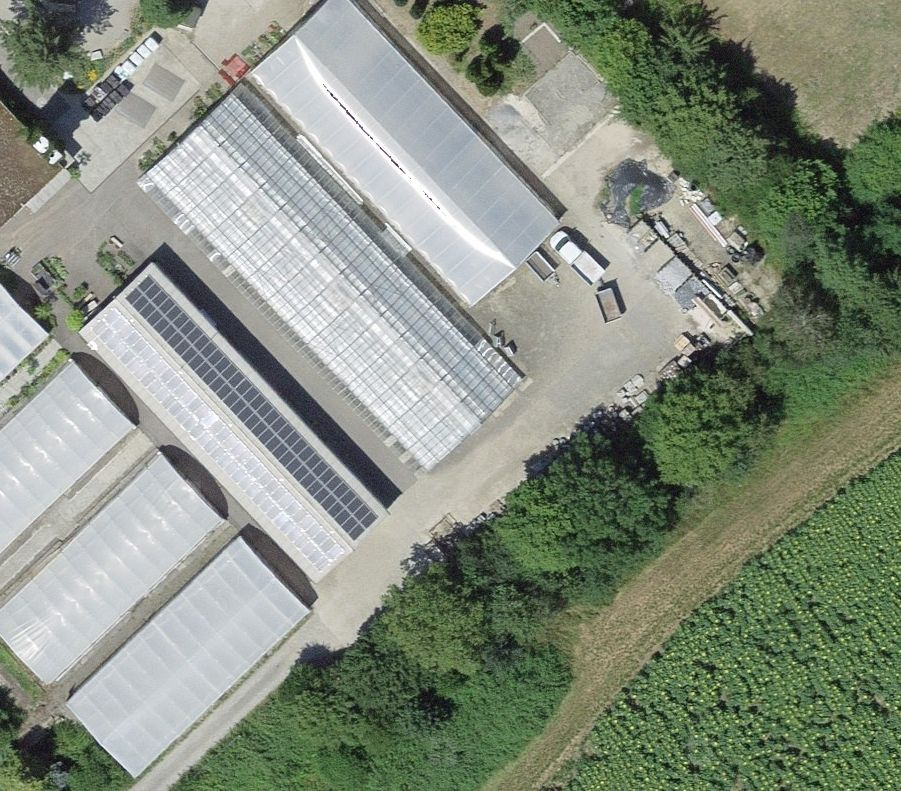solar: (92, 272, 380, 576)
